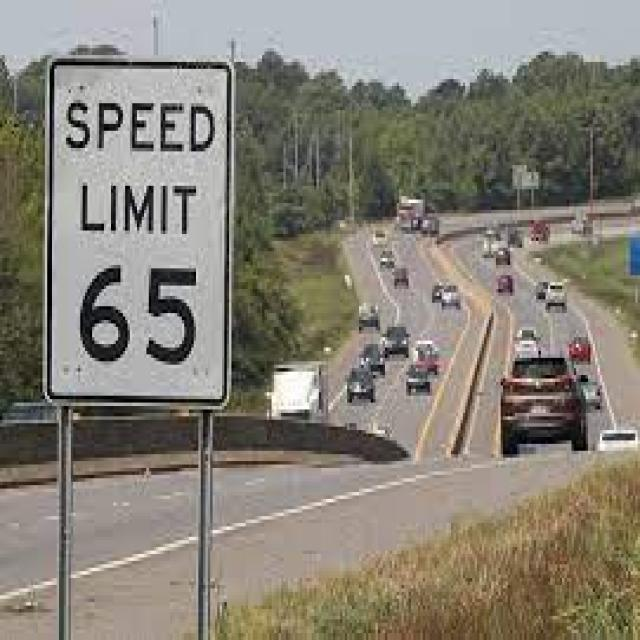speedLimit65: (64, 93, 217, 378)
